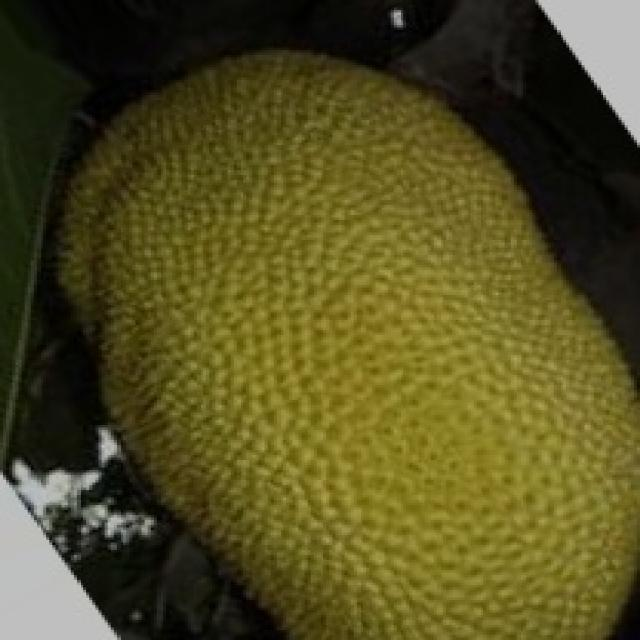Fruit: (264, 0, 640, 432), (0, 13, 400, 385), (283, 287, 637, 640)
